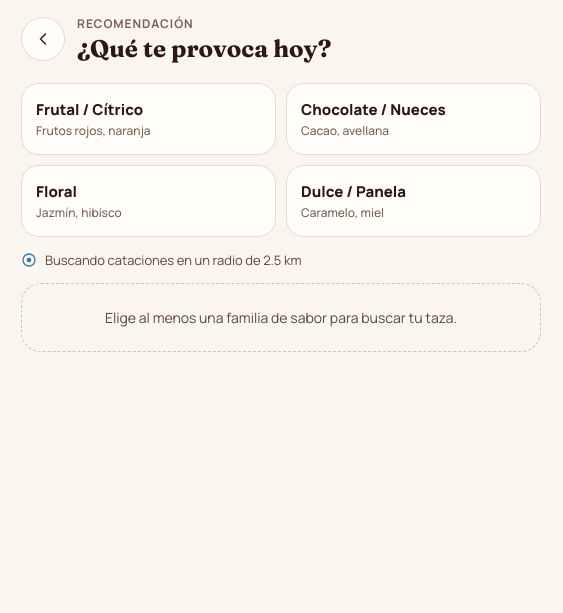
Test: RecomendacionPage › muestra la mejor opción y permite pasar a la siguiente
Click the button "Frutal / Cítrico Frutos rojos, naranja".
click(148, 119)  # box [21, 83, 276, 155]
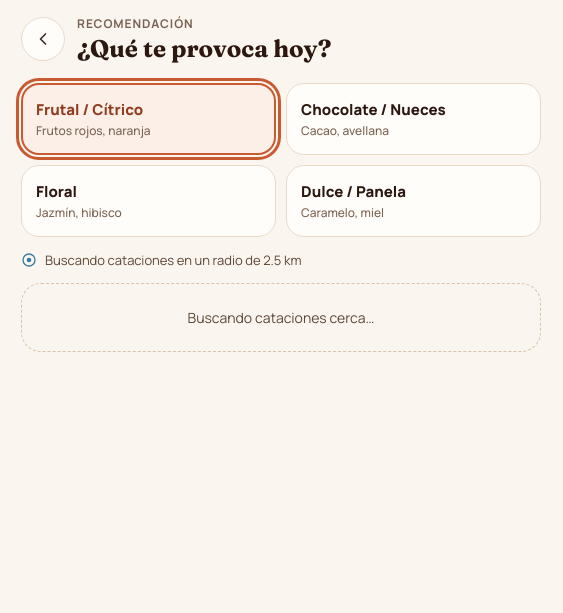
Click the button "Floral Jazmín, hibisco".
click(148, 201)  # box [21, 165, 276, 237]
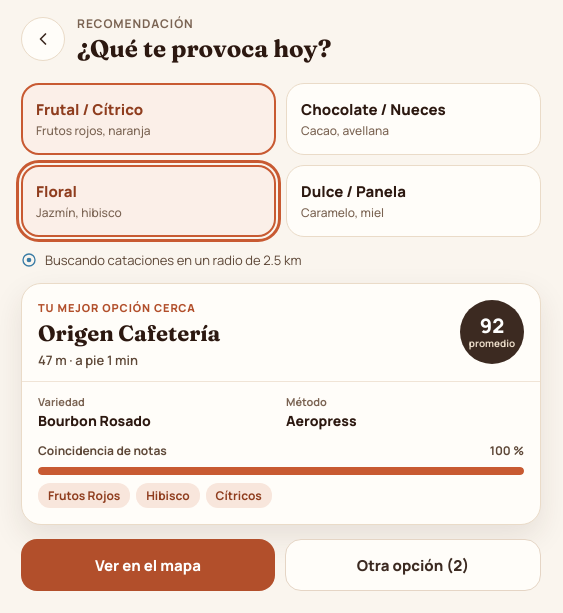
Expected: the heading "Origen Cafetería" is shown, [38, 319, 220, 347]
Expected: the text "Tu mejor opción cerca" is shown, [38, 300, 220, 315]
Expected: the text "100 %" is shown, [490, 442, 524, 459]
Click the button "Otra opción (2)".
click(413, 565)  # box [285, 539, 541, 591]
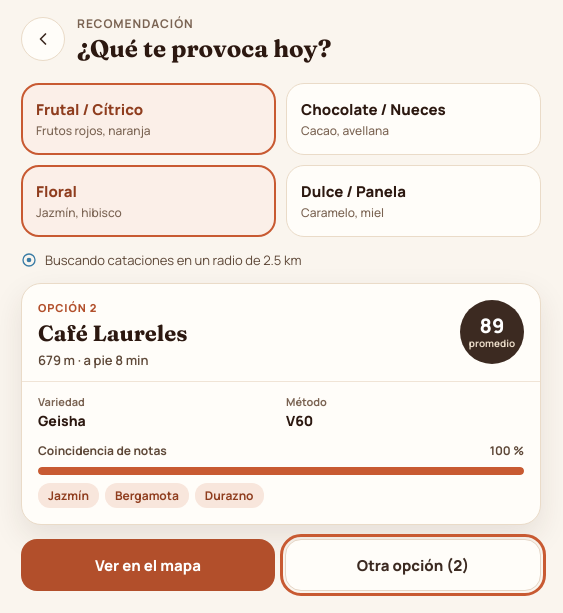
Expected: the heading "Café Laureles" is shown, [38, 319, 187, 347]
